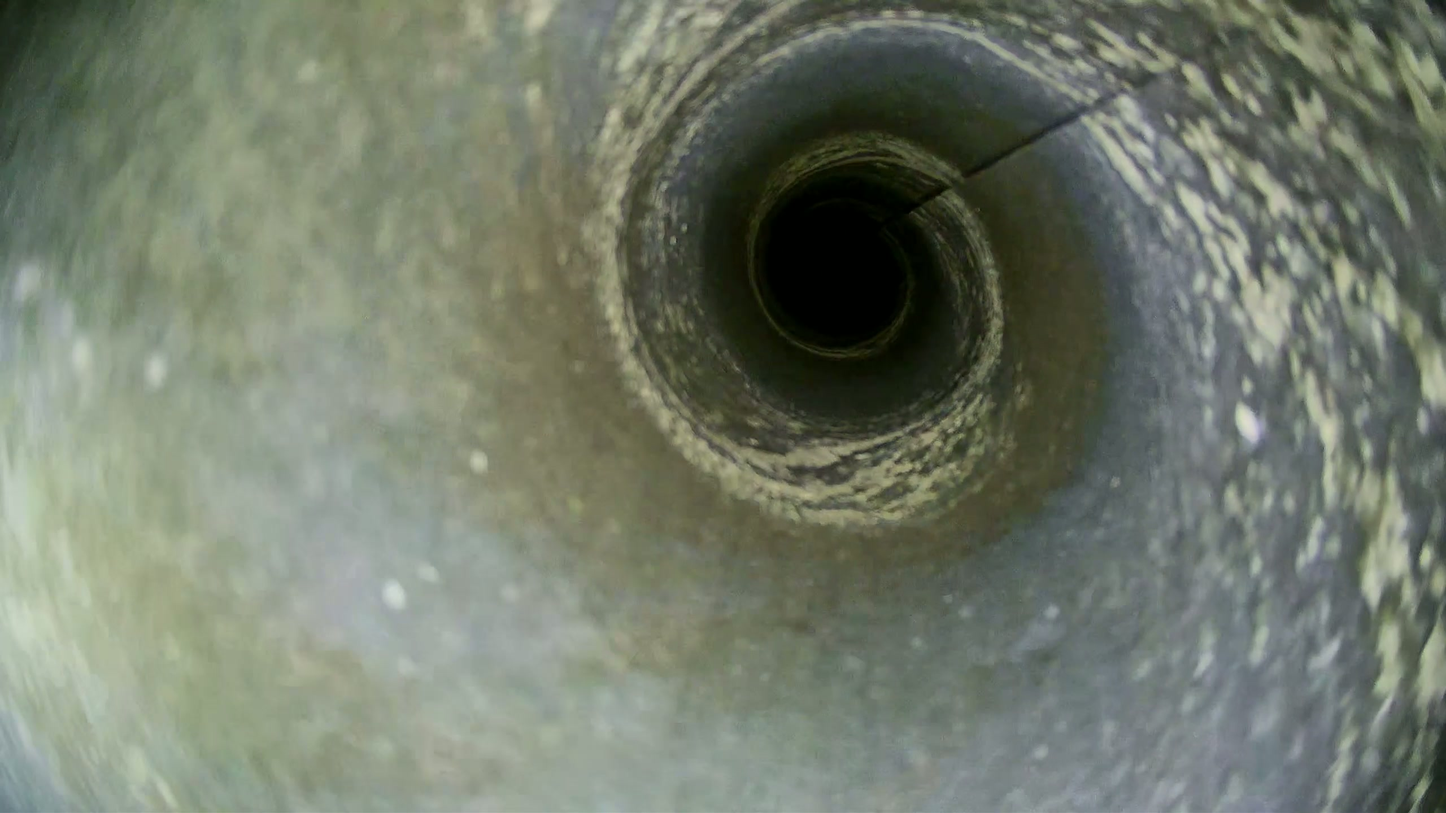hole: (766, 204, 905, 339)
